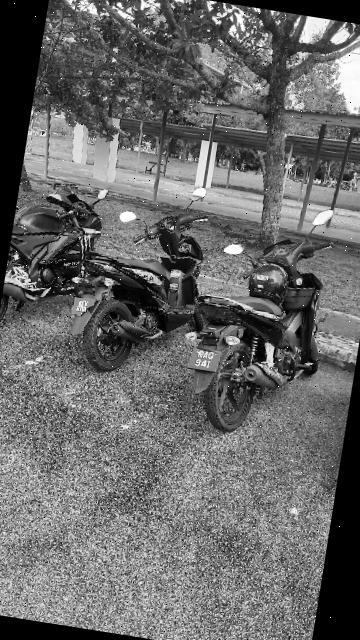License_Plate: (186, 347, 226, 378), (71, 296, 98, 320)
motorcycle: (175, 192, 354, 448), (64, 170, 214, 385)
